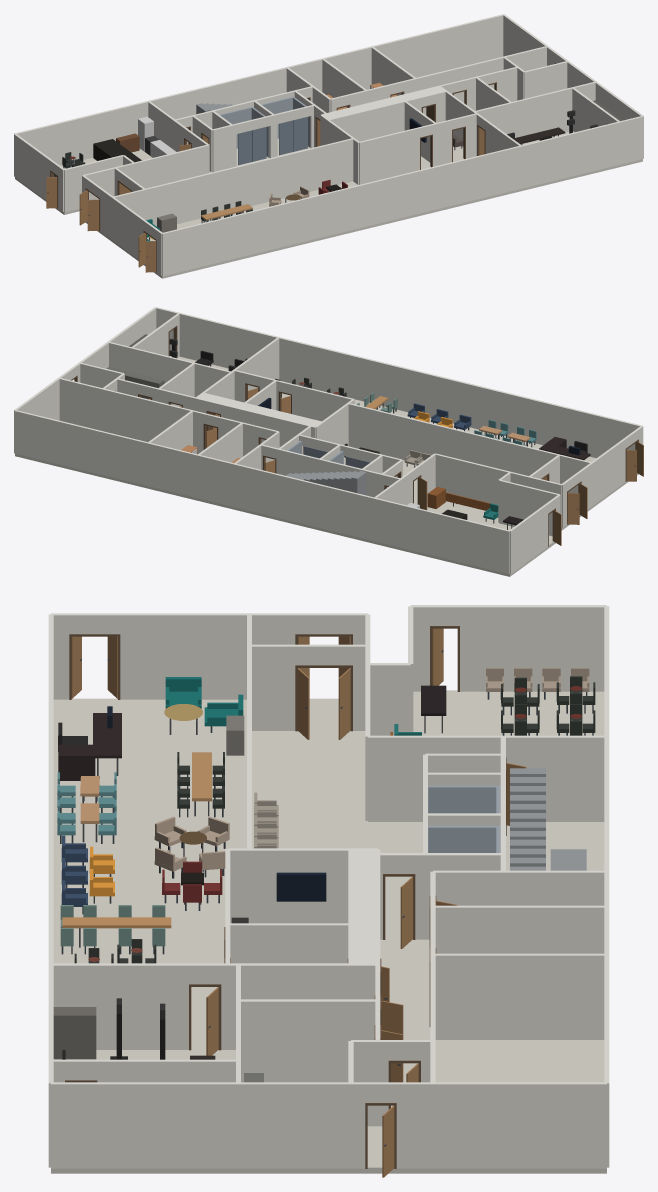
Rendered from bau-floor-1.glb.
3 renders of one model, top to bottom at view 1: azimuth 30°, elevation 25°; view 2: azimuth 150°, elevation 25°; view 3: azimuth 270°, elevation 25°, orthographic. The views are drawn at different scales.
Visible parts, largest first — view 1: Wall_10002, Wall_10000, Wall_10032, Wall_10029, Wall_10025, Wall_10028, Floor_slab_main, Wall_10017_4, Wall_10008, Wall_10003_2, Wall_10007_2, Wall_10001_2 (+29 smaller); view 2: Wall_10000, Wall_10002, Wall_10032, Wall_10017_4, Wall_10029, Wall_10008, Floor_slab_upper, Wall_10028, Wall_10003_2, Wall_10007_2, Wall_10010_2, Wall_10006 (+21 smaller); view 3: Floor_slab_main, Wall_10001_2, Floor_slab_upper, Wall_10001, Wall_10019, Wall_10003_2, Wall_10007_2, Wall_10030, Wall_10026_2, Wall_10018, Wall_10024, Wall_10009_2 (+36 smaller).
Part boxes in pixels (x1,y1,x2,y2): Wall_10002: (162, 116, 643, 275); Wall_10000: (14, 14, 503, 165); Wall_10032: (112, 138, 353, 226); Wall_10029: (475, 82, 595, 137); Wall_10025: (359, 127, 419, 184); Wall_10028: (322, 92, 421, 141); Floor_slab_main: (85, 131, 642, 278); Wall_10017_4: (403, 46, 546, 115); Wall_10008: (134, 144, 208, 188); Wall_10003_2: (100, 188, 145, 258); Wall_10007_2: (14, 133, 52, 199); Wall_10001_2: (563, 58, 643, 157); Wall_10000: (14, 410, 509, 573); Wall_10002: (156, 307, 642, 458); Wall_10032: (348, 403, 591, 493); Wall_10017_4: (59, 378, 204, 453); Wall_10029: (109, 342, 231, 397); Wall_10008: (435, 453, 510, 504); Floor_slab_upper: (15, 453, 498, 562); Wall_10028: (221, 399, 321, 454); Wall_10003_2: (579, 439, 625, 509); Wall_10007_2: (509, 503, 548, 573); Wall_10010_2: (276, 448, 385, 497); Wall_10006: (499, 480, 560, 536); Floor_slab_main: (51, 698, 367, 1173); Wall_10001_2: (51, 1082, 365, 1168); Floor_slab_upper: (368, 822, 606, 1173); Wall_10001: (396, 1082, 606, 1168); Wall_10019: (435, 953, 606, 1039); Wall_10003_2: (120, 613, 295, 699); Wall_10007_2: (460, 605, 606, 691); Wall_10030: (240, 999, 375, 1082); Wall_10026_2: (51, 963, 188, 1049); Wall_10018: (433, 905, 606, 953); Wall_10024: (227, 848, 377, 923); Wall_10009_2: (460, 735, 606, 821).
Size of the model in its own units: 34.16 by 2.9 by 16.29.
